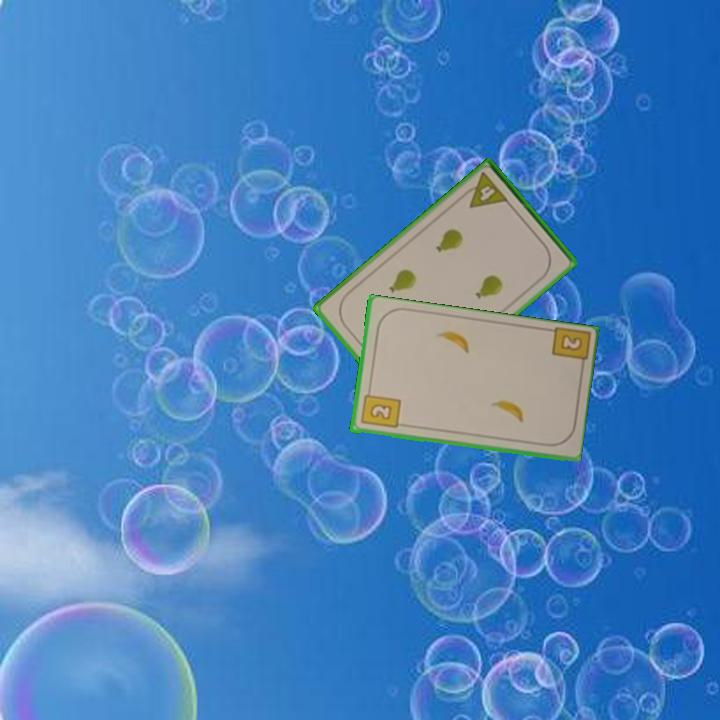2b: (357, 385, 403, 431), (548, 325, 591, 374)
4p: (458, 169, 511, 211)
